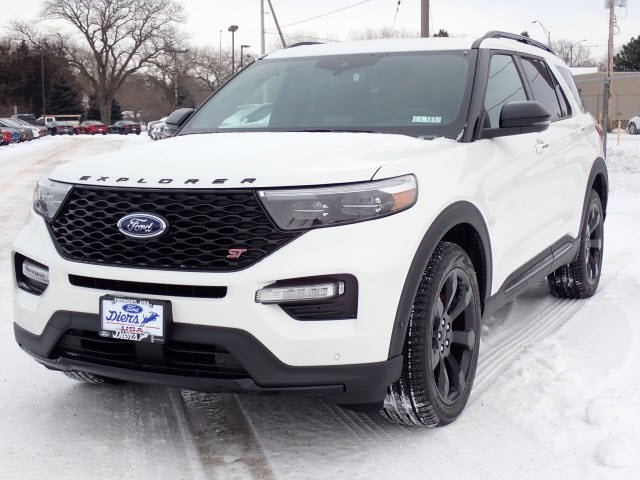Ford Explorer: (9, 30, 609, 427)
